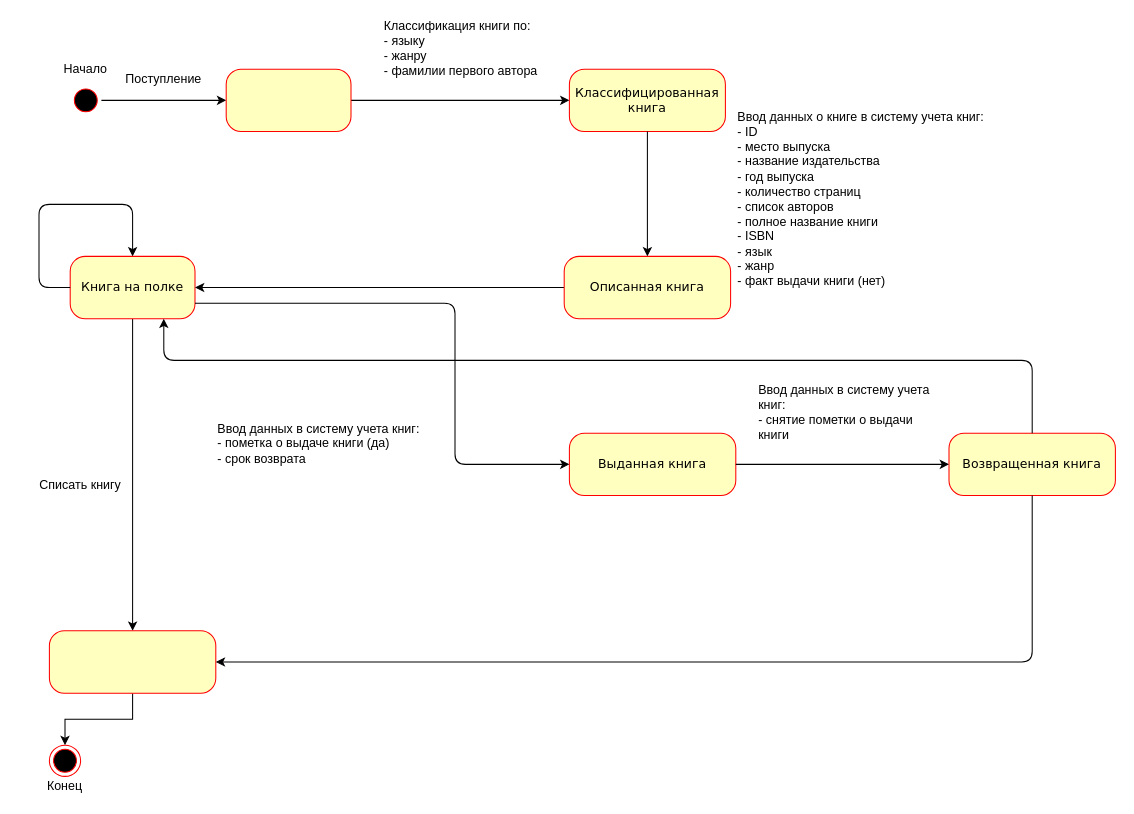
This 1134x814 diagram has some shape labels left out. The centre of each missing label's shape, as x and y in pixels:
Новая книга: the point at 288,100
Списанная книга: the point at 132,661
